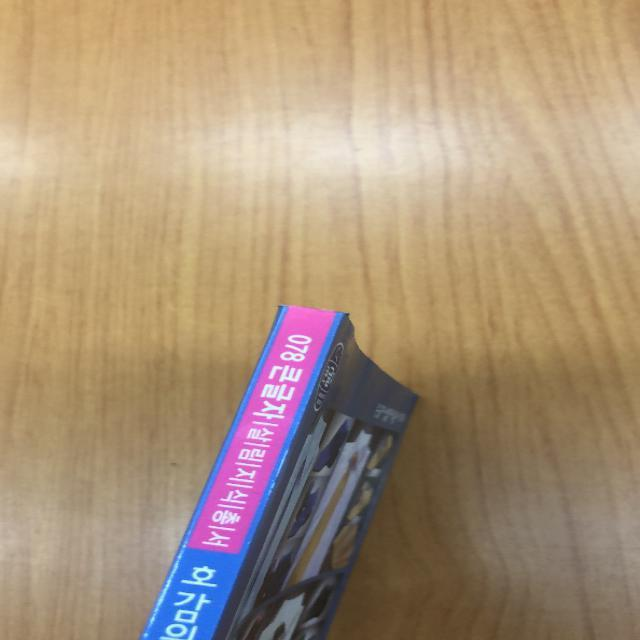Wornout: (272, 301, 356, 319)
